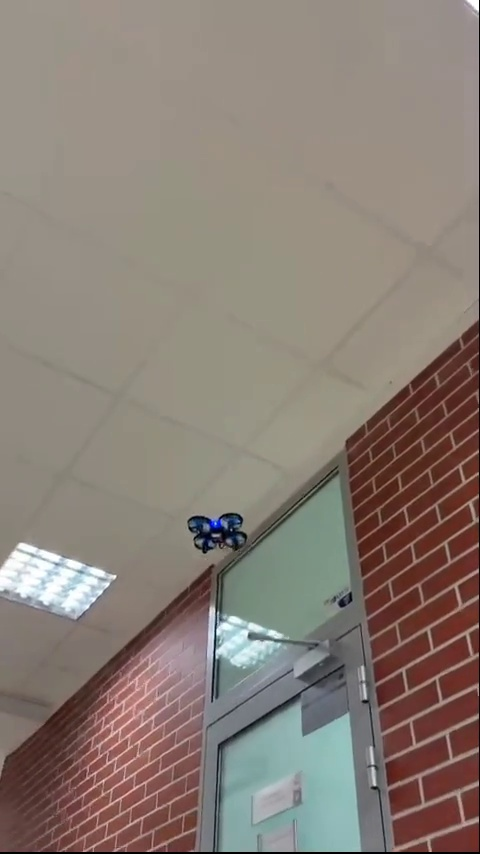drone: (186, 512, 242, 554)
